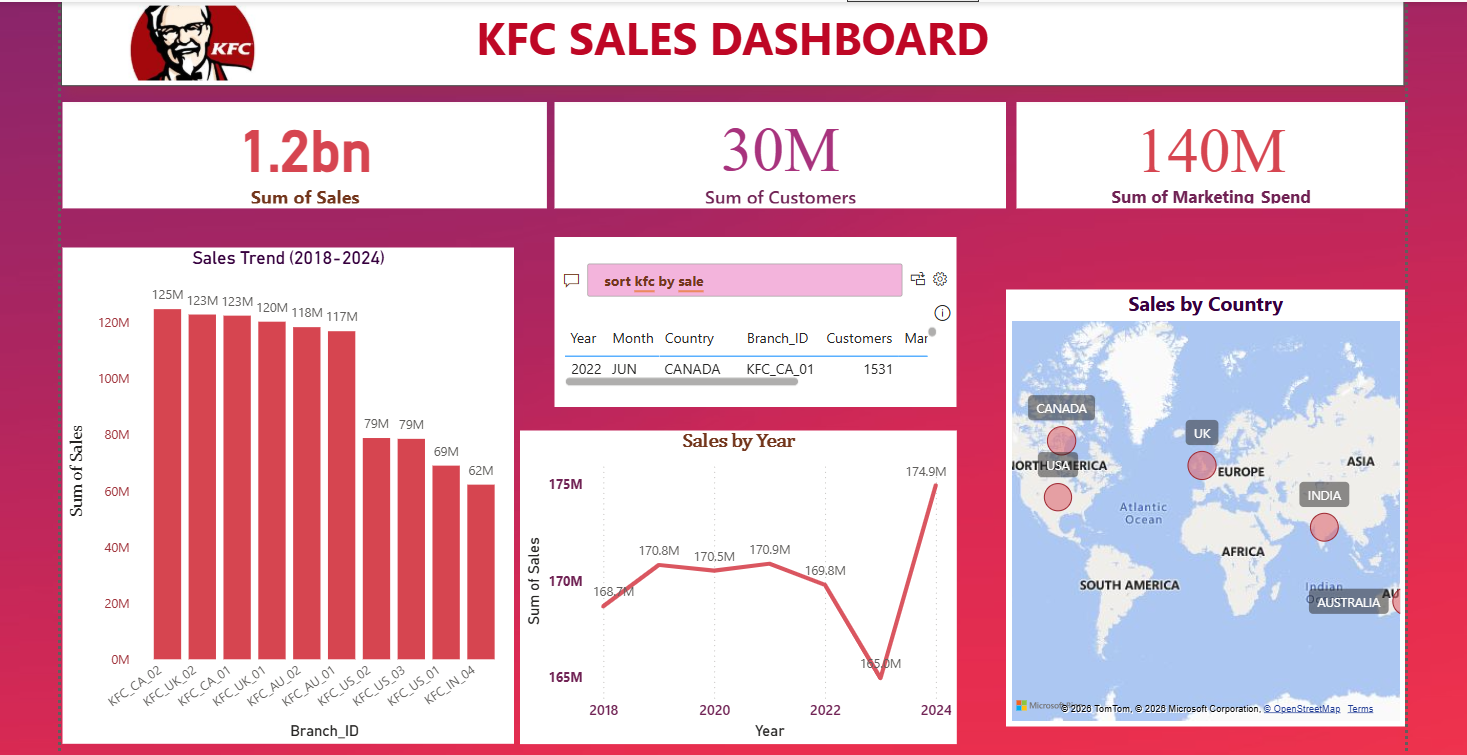

The page's visual inventory and layout, read from the dashboard file:
{"tool":"powerbi","page":{"name":"Page 1","canvas":[1280,720],"ordinal":0},"visuals":[{"type":"card","fields":{"Values":["Sum(KFC.Sales)"]},"box":[1.4,97.1,461.4,101.4],"z":0},{"type":"actionButton","box":[0,0,100,40],"z":1},{"type":"card","fields":{"Values":["Sum(KFC.Customers)"]},"box":[470,97.1,430,101.4],"z":2},{"type":"card","fields":{"Values":["Sum(KFC.Marketing_Spend)"]},"box":[910,97.1,370,101.4],"z":3},{"type":"lineChart","title":" Sales by Year","fields":{"Category":["KFC.Year"],"Y":["Sum(KFC.Sales)"]},"box":[437.1,410,415.7,298.6],"z":4},{"type":"map","title":" Sales by Country","fields":{"Category":["KFC.Country"],"Size":["Sum(KFC.Sales)"]},"box":[900,275.7,380,415.7],"z":5},{"type":"clusteredColumnChart","title":"Sales Trend (2018-2024)","fields":{"Category":["KFC.Branch_ID"],"Y":["Sum(KFC.Sales)"]},"box":[1.4,235.7,430,472.9],"z":6},{"type":"qnaVisual","box":[470,225.7,382.9,161.4],"z":8},{"type":"textbox","box":[0,0,1279.5,81.8],"z":9},{"type":"image","box":[17.1,0,215.7,81.4],"z":10}]}

Visuals, with their boxes in screenshot pixels (x1, y1, x2, y2):
card - Sum(KFC.Sales): locate(70, 101, 548, 206)
actionButton: locate(69, 0, 172, 41)
card - Sum(KFC.Customers): locate(556, 101, 1001, 206)
card - Sum(KFC.Marketing_Spend): locate(1012, 101, 1395, 206)
" Sales by Year" lineChart: locate(522, 425, 952, 734)
" Sales by Country" map: locate(1001, 286, 1395, 716)
"Sales Trend (2018-2024)" clusteredColumnChart: locate(70, 244, 516, 734)
qnaVisual: locate(556, 234, 952, 401)
textbox: locate(69, 0, 1394, 85)
image: locate(86, 0, 310, 84)
